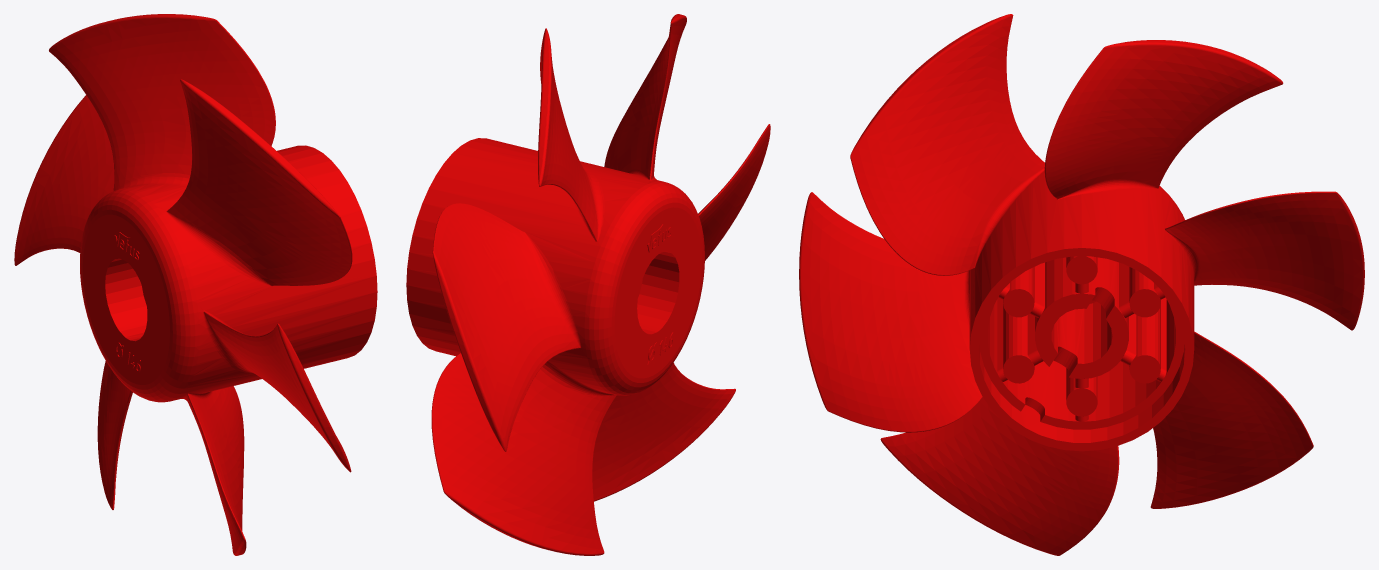
The model's file is propeller.dae.
3 views of the same model, side by side, from view 1: azimuth 30°, elevation 25°; view 2: azimuth 150°, elevation 25°; view 3: azimuth 270°, elevation 25° (orthographic). The views are drawn at different scales.
Visible parts, largest first — view 1: Propeller; view 2: Propeller; view 3: Propeller.
Part boxes in pixels (<box>): Propeller: <box>14,14,377,555</box>; Propeller: <box>406,14,770,555</box>; Propeller: <box>799,14,1364,555</box>.
Bounding box in the file's own units: 52.2 × 126 × 125.
